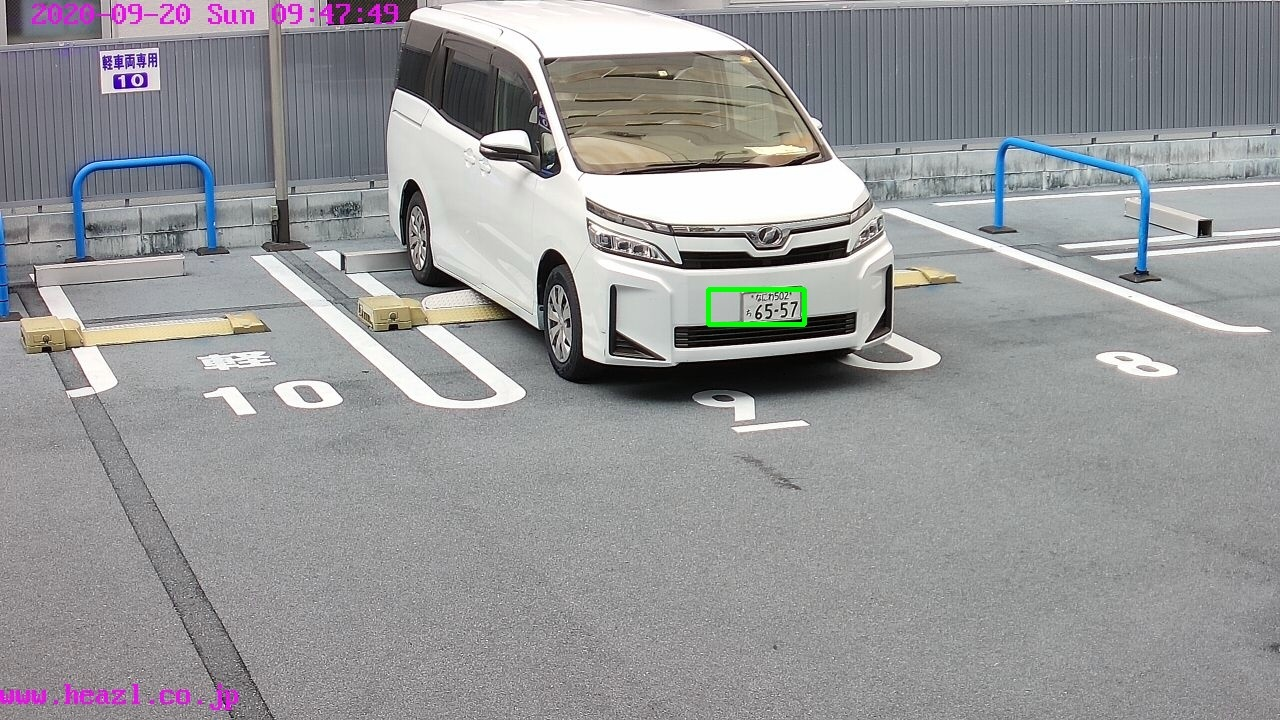number_plate: (742, 288, 804, 322)
